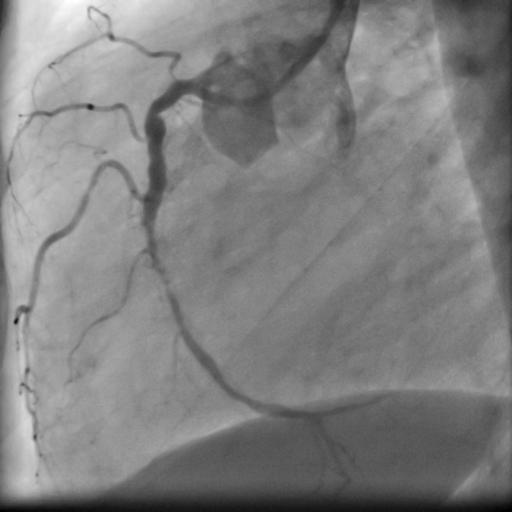Stenosis: (144, 97, 167, 119)
